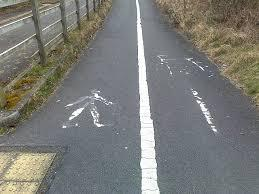faded_road_lines: (153, 46, 237, 140), (55, 82, 111, 135)
